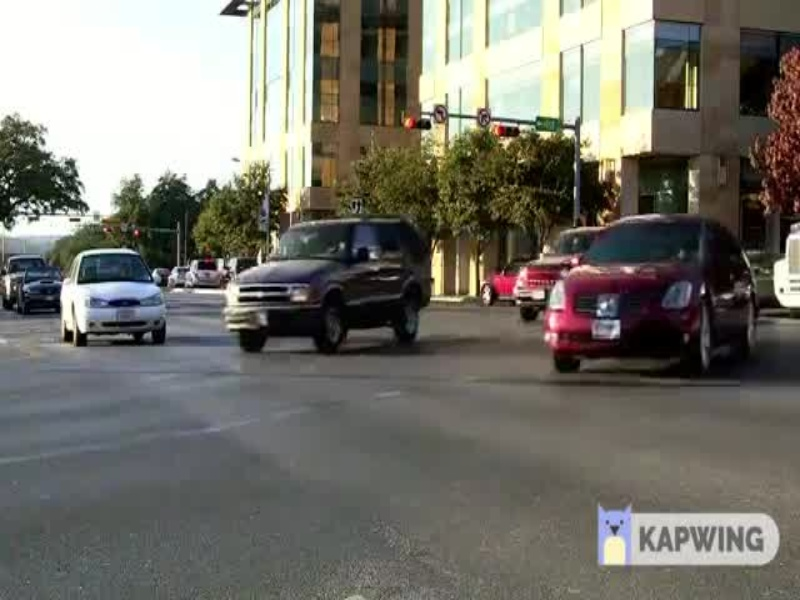car: (534, 216, 764, 375), (222, 212, 443, 360), (59, 237, 168, 353)
